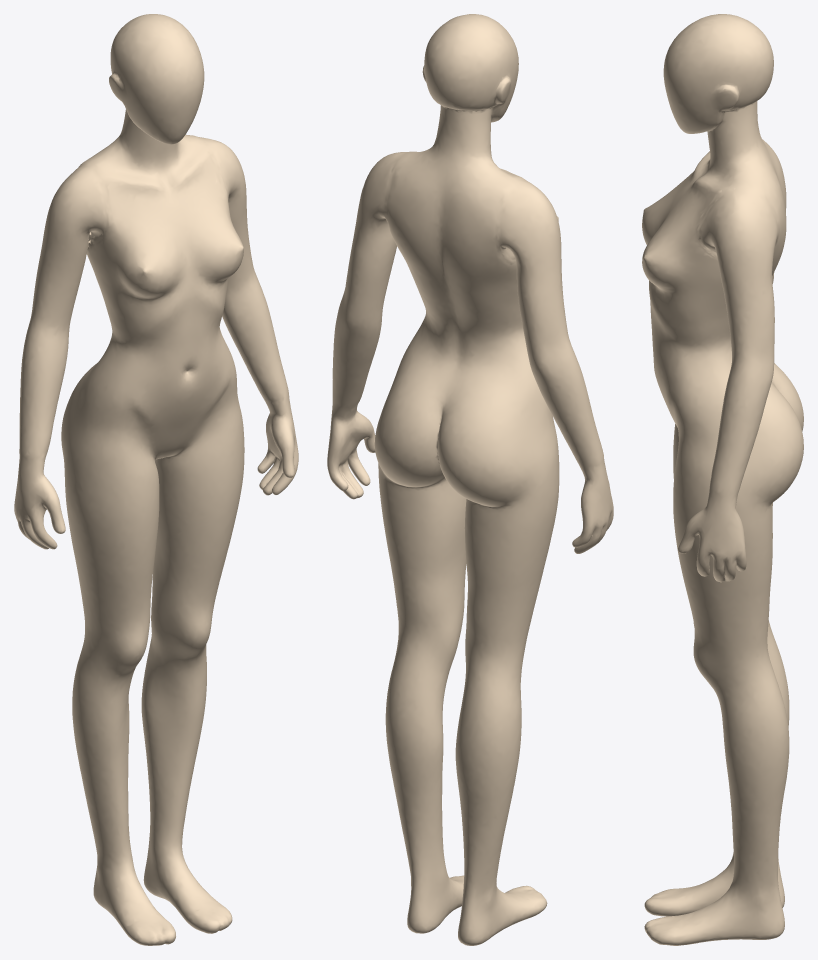
File: female.glb
3 renders of one model, left to right at view 1: azimuth 30°, elevation 25°; view 2: azimuth 150°, elevation 25°; view 3: azimuth 270°, elevation 25°, orthographic.
Parts seen in each view (by area): view 1: model_skincolor_0; view 2: model_skincolor_0; view 3: model_skincolor_0.
Boxes of the visible parts, <box> form: model_skincolor_0: <box>14,14,298,945</box>; model_skincolor_0: <box>327,14,613,945</box>; model_skincolor_0: <box>642,14,803,945</box>.
Size of the model in its own units: 1.2 by 3.77 by 0.6107.
